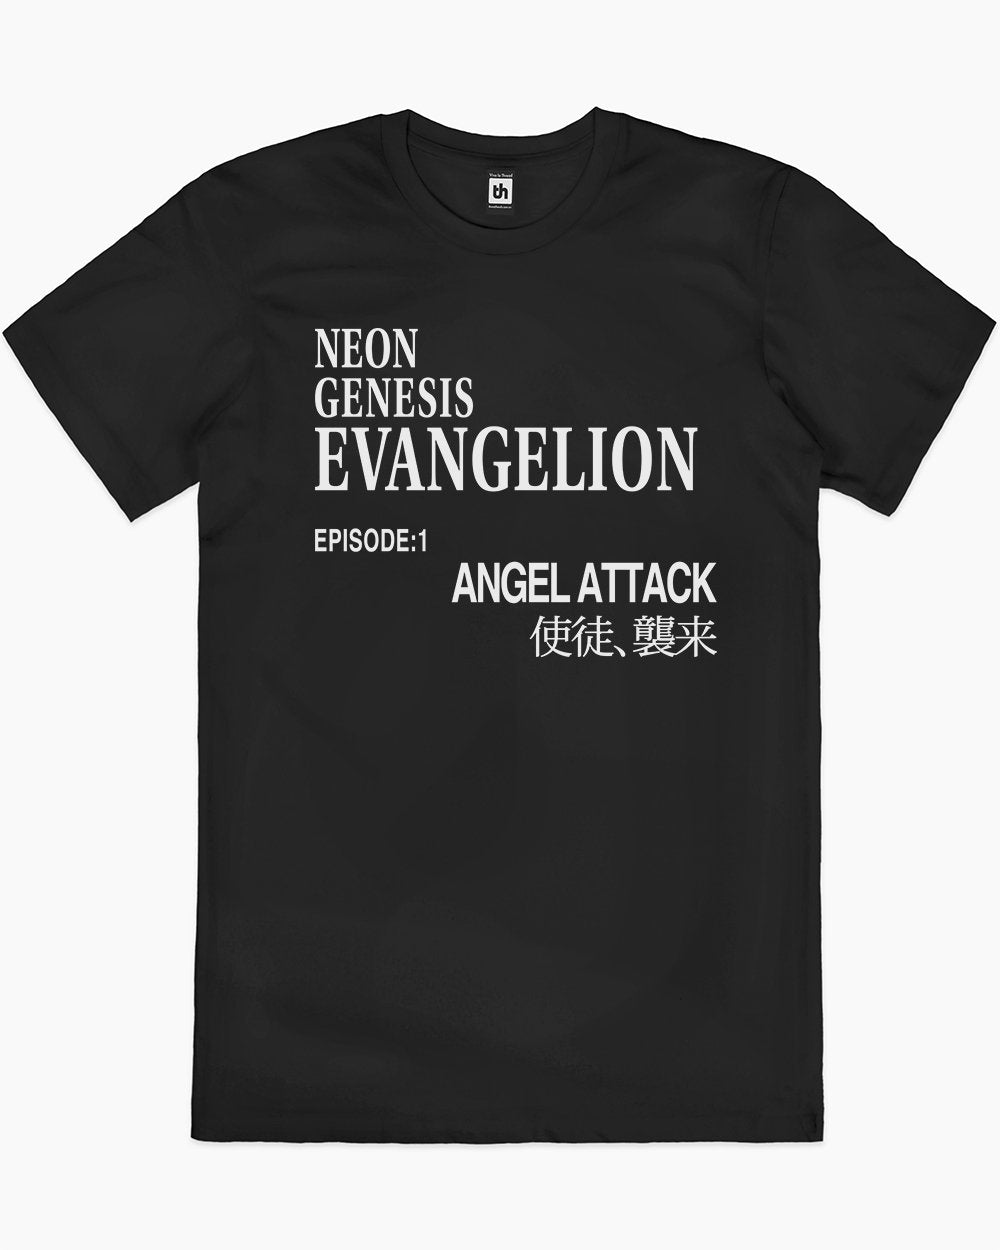design: (309, 321, 724, 664)
